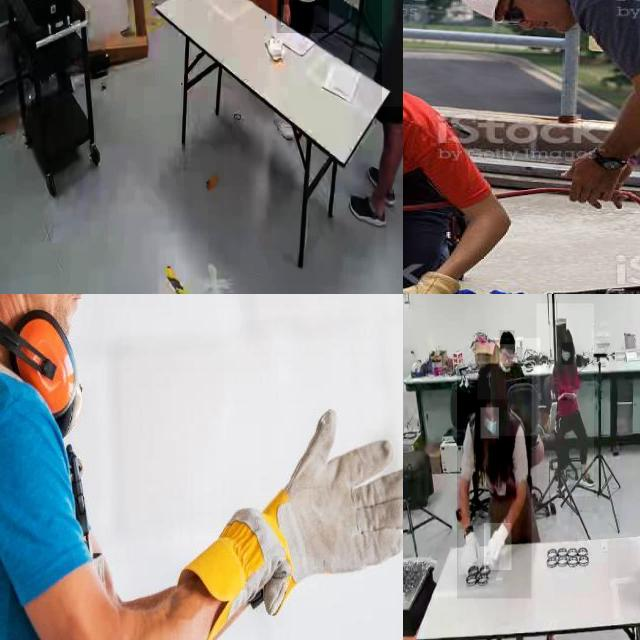Ear-protection: (0, 304, 98, 426)
Harness: (403, 80, 463, 231)
face_mask: (481, 408, 499, 438), (562, 342, 572, 364)
face_nomask: (500, 350, 514, 368)
hand_glove: (289, 408, 403, 574), (175, 503, 289, 640), (484, 523, 512, 571), (458, 529, 486, 575)
hand_noglove: (281, 4, 291, 26), (560, 390, 576, 401), (564, 389, 578, 398)
head_nohelmet: (478, 360, 507, 400), (499, 330, 515, 345), (557, 328, 573, 342)
person: (0, 294, 403, 640), (457, 364, 532, 599), (536, 303, 594, 497), (490, 338, 540, 436)
shoes: (346, 190, 388, 232), (364, 162, 398, 207)
